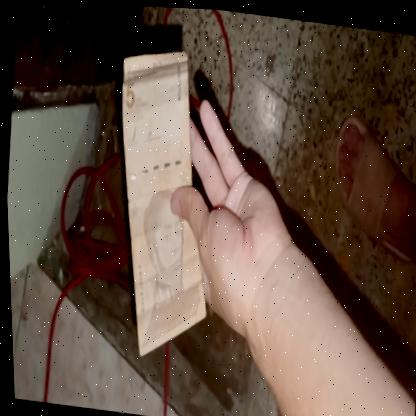five-front-vef: (97, 41, 228, 364)
